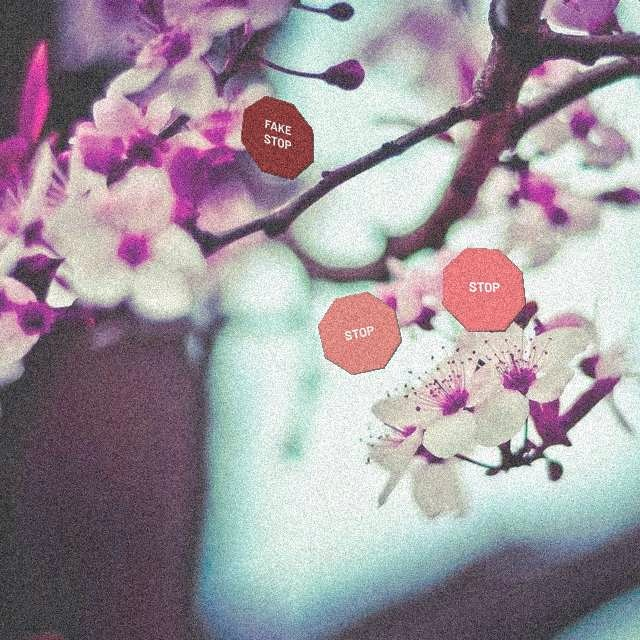FAKE_STOP: (240, 95, 314, 180)
STOP: (317, 291, 402, 375), (442, 247, 526, 332)
